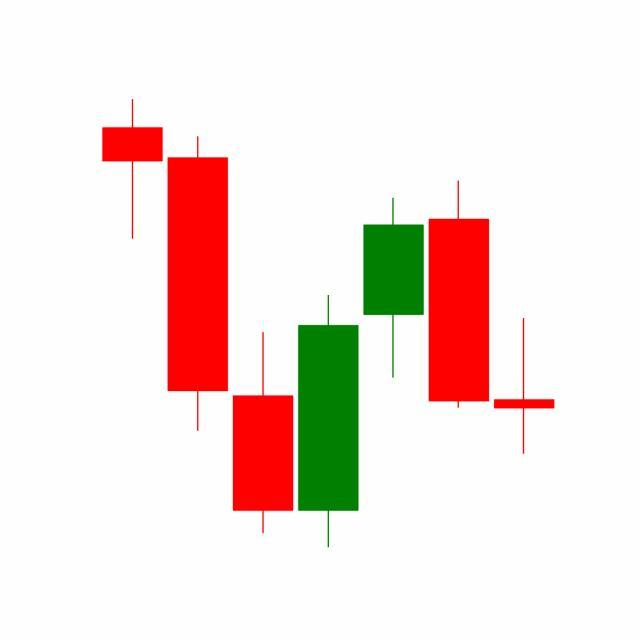Evening Star: (295, 176, 492, 549)
